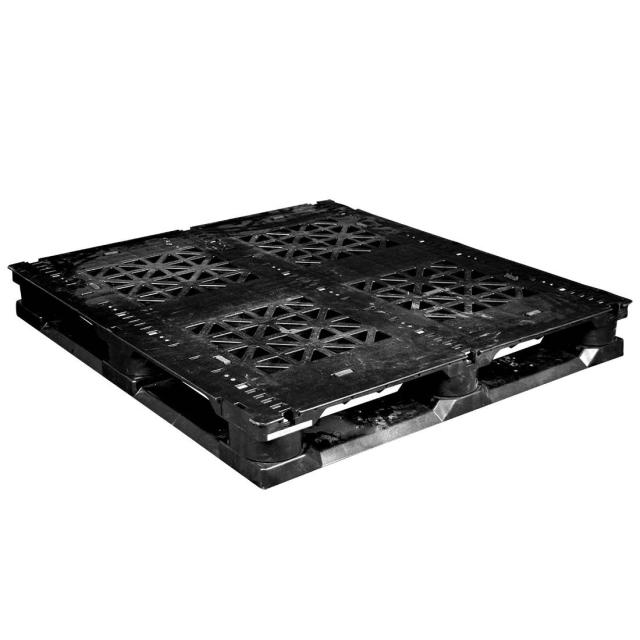non-igps: (6, 197, 634, 492)
